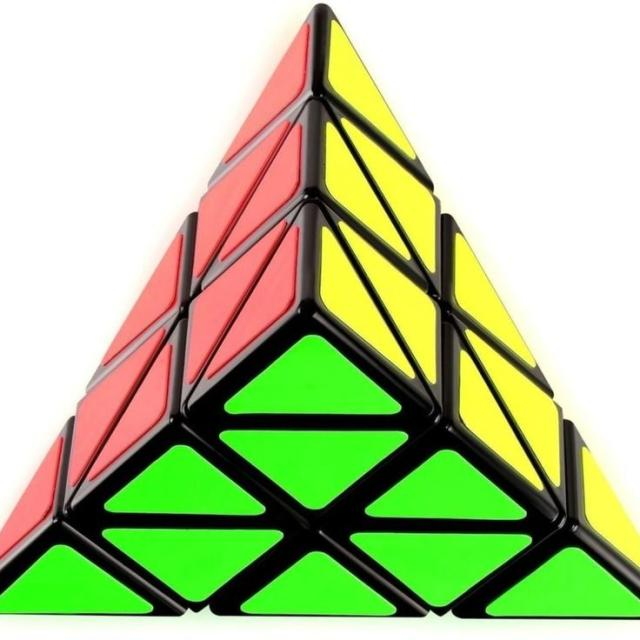Pyraminx: (0, 0, 639, 617)
